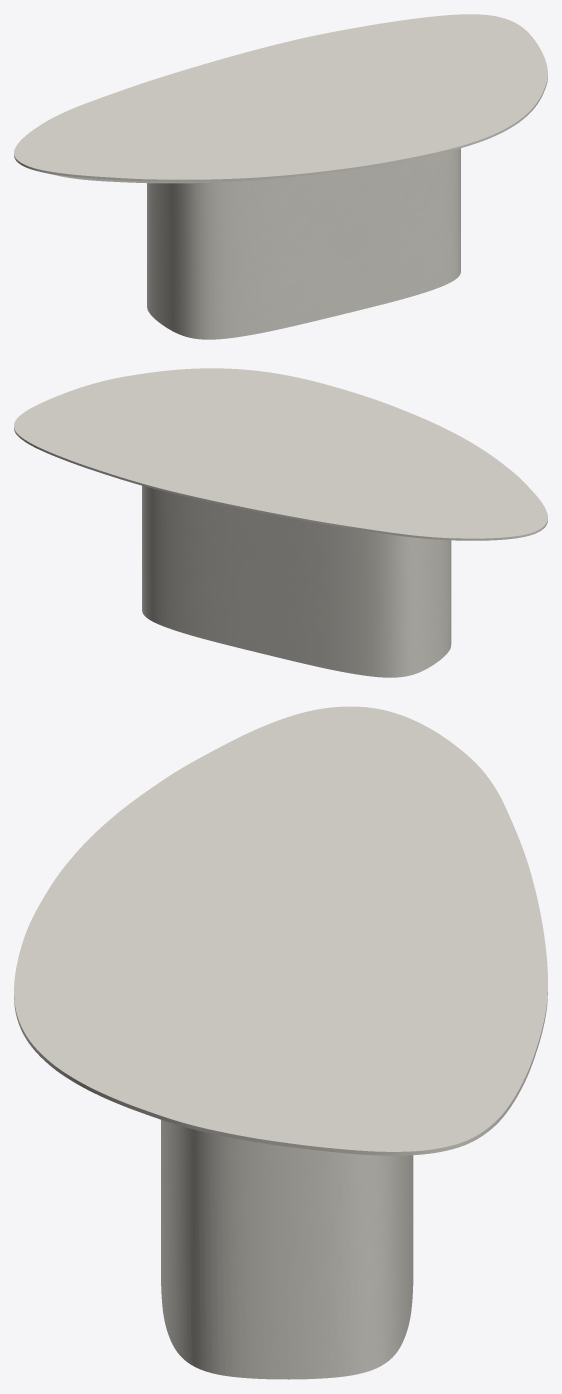
The model's file is pale_pebbletop_facet_fixed.glb.
3 views of the same model, one above another, from view 1: azimuth 30°, elevation 25°; view 2: azimuth 150°, elevation 25°; view 3: azimuth 270°, elevation 25° (orthographic). The views are drawn at different scales.
Parts seen in each view (by area): view 1: facet_pebbletop, fixed; view 2: facet_pebbletop, fixed; view 3: facet_pebbletop, fixed.
Boxes of the visible parts, x1,y1,x2,y2 form: facet_pebbletop: [14, 14, 547, 183]; fixed: [147, 148, 460, 339]; facet_pebbletop: [14, 368, 547, 540]; fixed: [142, 485, 451, 677]; facet_pebbletop: [14, 706, 547, 1155]; fixed: [161, 1120, 413, 1379].
Size of the model in its own units: 7.5 by 2.5 by 3.8.
1 material, 1 textured.
